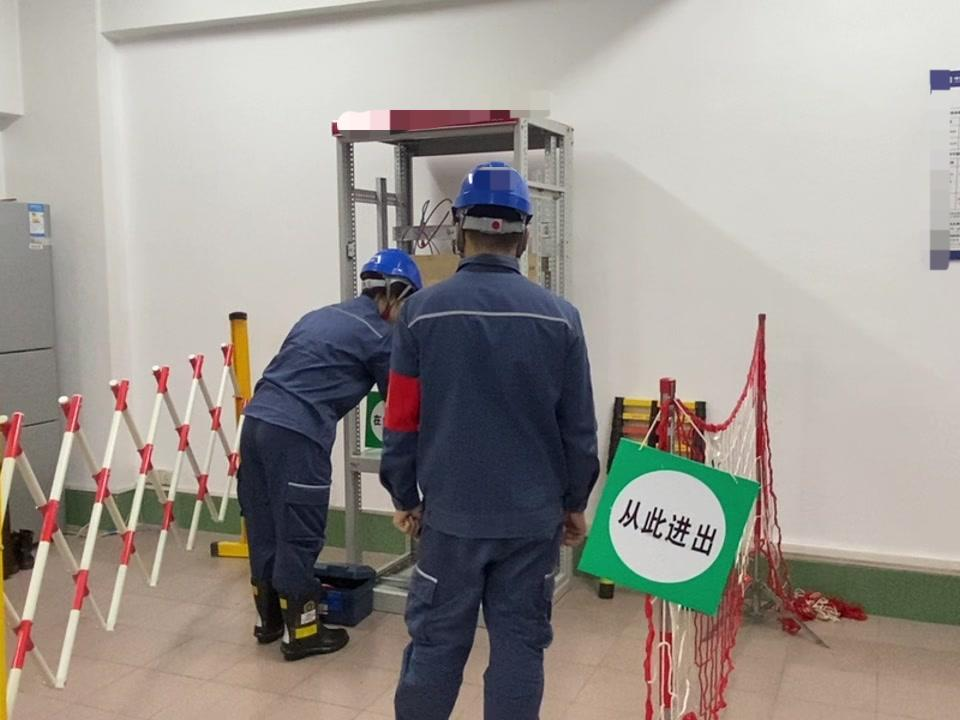halt: (452, 162, 539, 265), (361, 251, 424, 315)
inear: (382, 282, 406, 318)
